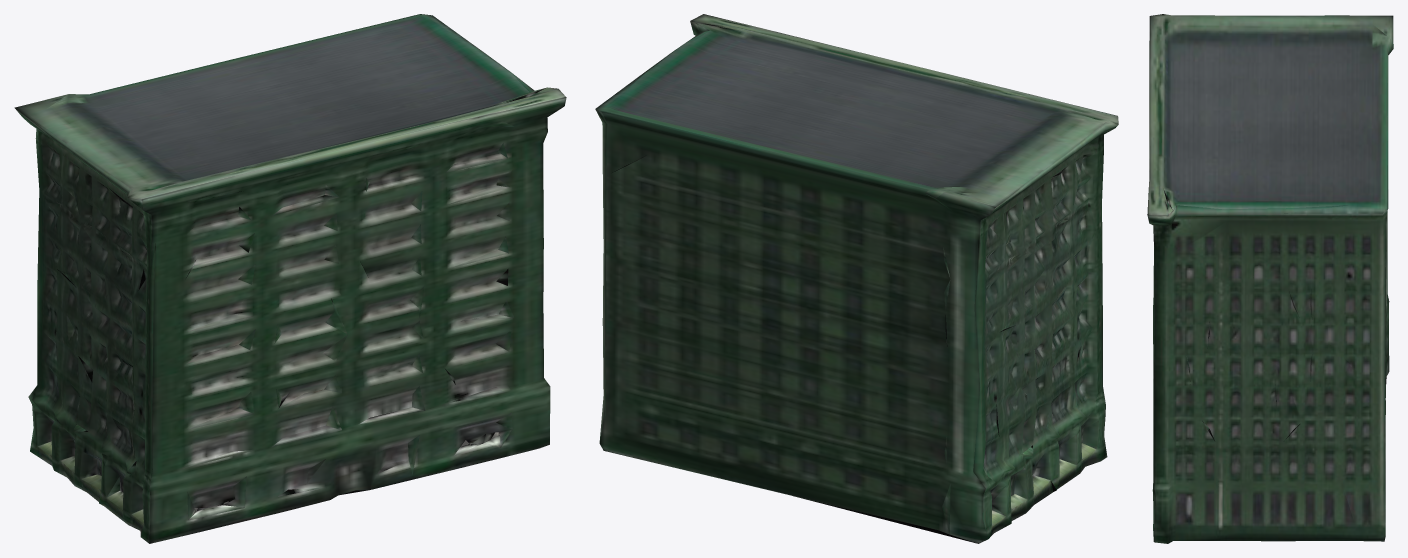
Rendered from silversmith_building.glb.
The picture shows the model from 3 angles, left to right: view 1: azimuth 30°, elevation 25°; view 2: azimuth 150°, elevation 25°; view 3: azimuth 270°, elevation 25°; orthographic projection. The views are drawn at different scales.
Parts seen in each view (by area): view 1: silversmith_building; view 2: silversmith_building; view 3: silversmith_building.
Part boxes in pixels (box(x1,y1,x2,y2)): silversmith_building: box(14, 14, 566, 543); silversmith_building: box(595, 14, 1118, 543); silversmith_building: box(1147, 14, 1393, 543).
Bounding box in the file's own units: 49 × 38 × 25.
1 material, 1 textured.
